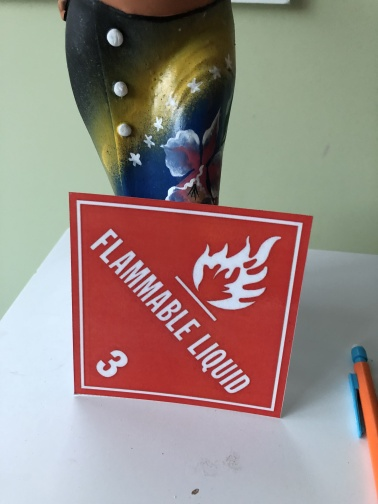FlammableLiquid: (66, 191, 296, 416)
